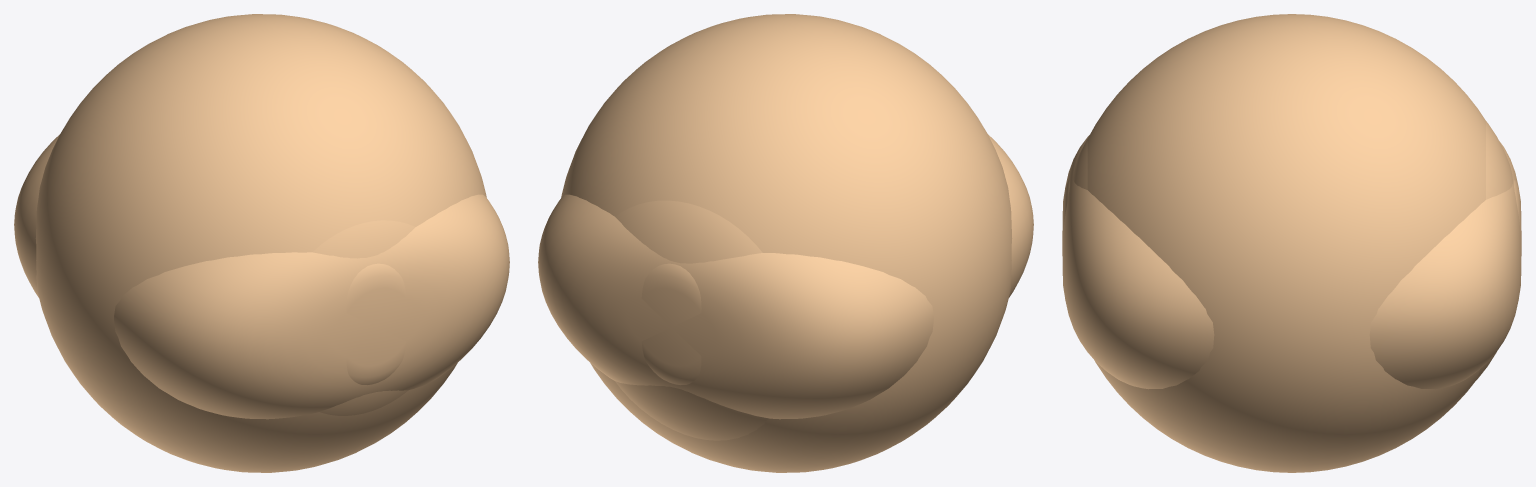
Rendered from parts.glb.
3 views of the same model, side by side, from view 1: azimuth 30°, elevation 25°; view 2: azimuth 150°, elevation 25°; view 3: azimuth 270°, elevation 25° (orthographic).
Visible parts, largest first — view 1: body_ball, body_chonk, body_sausage, body_egg; view 2: body_ball, body_chonk, body_pear, body_sausage; view 3: body_ball, body_chonk, body_pear, body_egg.
Part boxes in pixels (x1,y1,x2,y2): body_ball: (35, 14, 486, 472); body_chonk: (14, 134, 509, 419); body_sausage: (346, 263, 406, 384); body_egg: (313, 220, 415, 415); body_ball: (561, 14, 1012, 472); body_chonk: (538, 134, 1033, 419); body_pear: (615, 200, 768, 440); body_sausage: (641, 263, 701, 384); body_ball: (1087, 14, 1485, 472); body_chonk: (1062, 135, 1521, 389); body_pear: (1476, 121, 1512, 380); body_egg: (1073, 139, 1087, 189).
Size of the model in its own units: 1 by 1 by 1.
